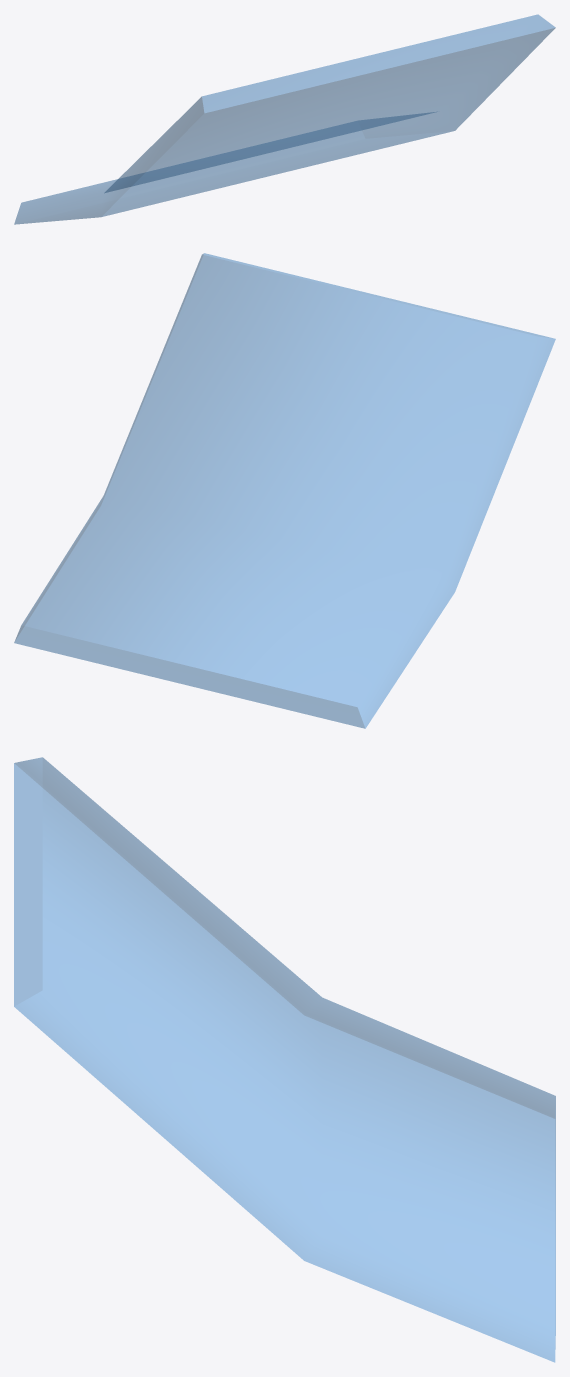
File: Glass_03.fbx
The picture shows the model from 3 angles, top to bottom: view 1: azimuth 30°, elevation 25°; view 2: azimuth 150°, elevation 25°; view 3: azimuth 270°, elevation 25°; orthographic projection. The views are drawn at different scales.
Visible parts, largest first — view 1: Glass.002; view 2: Glass.002; view 3: Glass.002.
Part boxes in pixels (x1,y1,x2,y2): Glass.002: [14, 14, 555, 224]; Glass.002: [14, 253, 555, 728]; Glass.002: [14, 757, 555, 1362].
Size of the model in its own units: 2.93 by 2.05 by 2.74.
